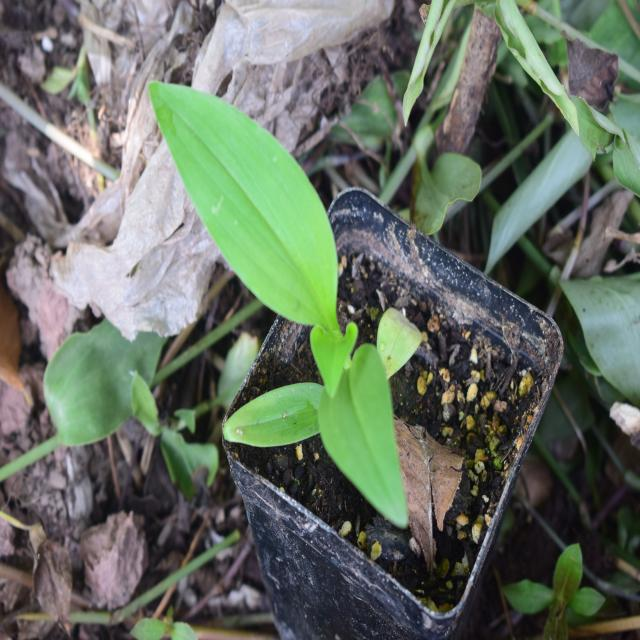Common Dayflower: (160, 71, 442, 522)
